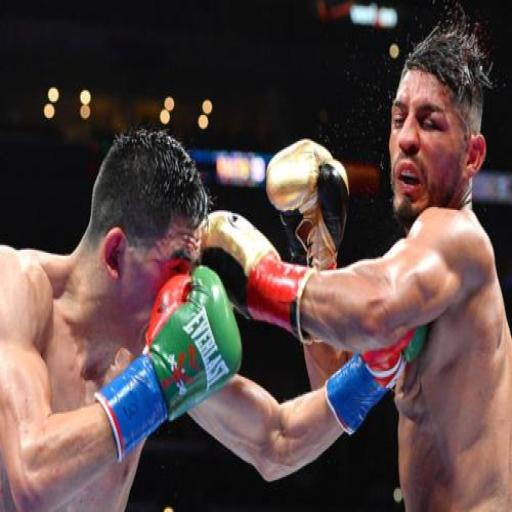boxing: (0, 60, 424, 512)
